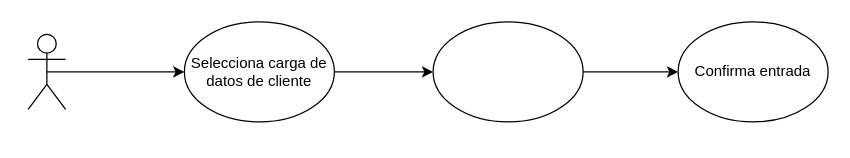
Image size: 850x158. Some labels were removed from this diagram. The shapes that lost their labels are listed below. From the top down, each one's centre as x and y in pixels, then its label:
pixel 46 71: Usuario
pixel 507 71: Ingreso de información del cliente
